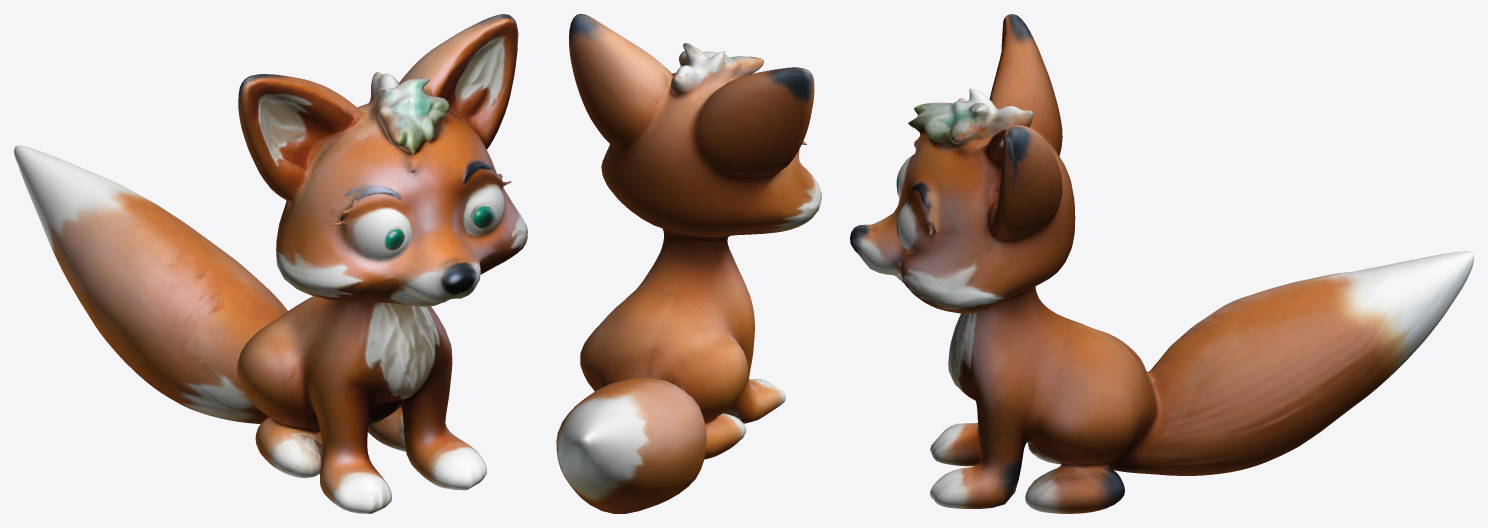
The model's file is claybit.glb.
The picture shows the model from 3 angles, left to right: view 1: azimuth 30°, elevation 25°; view 2: azimuth 150°, elevation 25°; view 3: azimuth 270°, elevation 25°; orthographic projection. The views are drawn at different scales.
Size of the model in its own units: 0.9759 by 1.45 by 1.99.
Materials: 1 (1 with a texture image).
